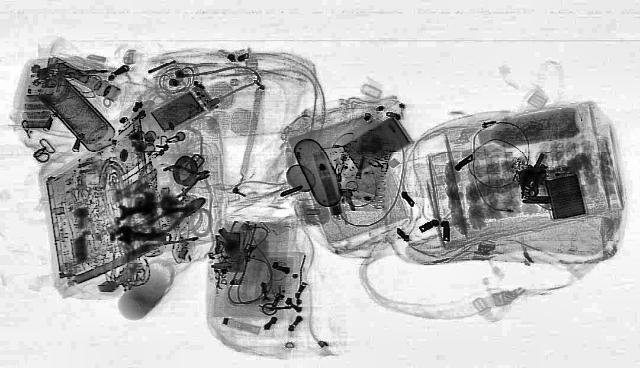Pliers: (138, 192, 218, 236), (156, 160, 220, 196)
Wrench: (110, 226, 172, 244)
